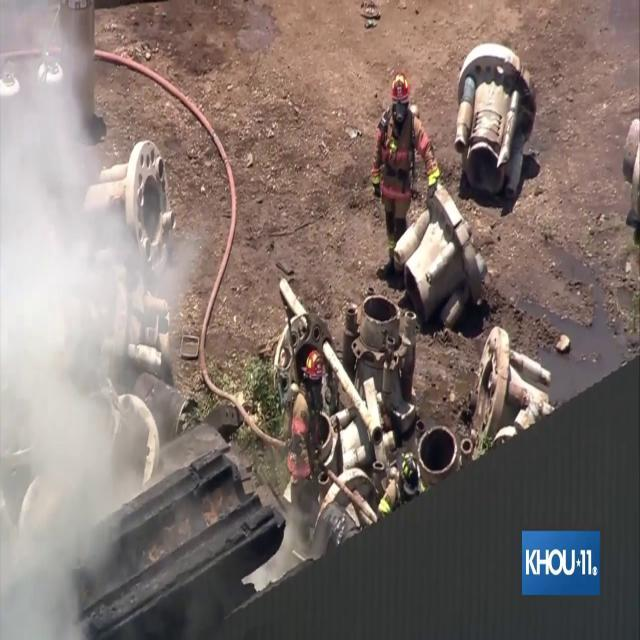Smoke: (0, 2, 201, 637)
